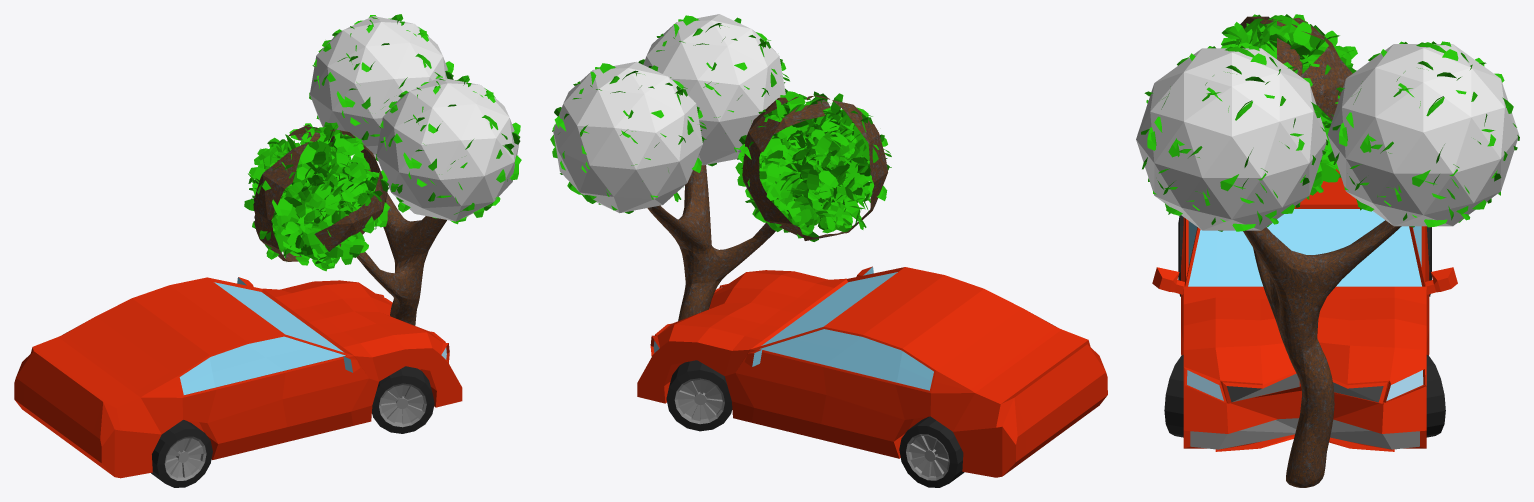
The model's file is nabourane-auto.fbx.
3 views of the same model, side by side, from view 1: azimuth 30°, elevation 25°; view 2: azimuth 150°, elevation 25°; view 3: azimuth 270°, elevation 25° (orthographic). The views are drawn at different scales.
Visible parts, largest first — view 1: AutoBourane, Listy2, Listy1, Listy3, Kmen; view 2: AutoBourane, Listy1, Listy2, Kmen, Listy3; view 3: AutoBourane, Listy1, Listy2, Kmen, Listy3.
Part boxes in pixels (bbox=[...]): AutoBourane: bbox=[14, 277, 462, 487]; Listy2: bbox=[376, 77, 518, 221]; Listy1: bbox=[310, 16, 447, 157]; Listy3: bbox=[253, 124, 387, 261]; Kmen: bbox=[356, 169, 446, 325]; AutoBourane: bbox=[637, 266, 1107, 487]; Listy1: bbox=[553, 61, 702, 213]; Listy2: bbox=[643, 14, 785, 165]; Kmen: bbox=[647, 165, 775, 320]; Listy3: bbox=[742, 95, 887, 240]; AutoBourane: bbox=[1152, 169, 1457, 451]; Listy1: bbox=[1327, 44, 1519, 226]; Listy2: bbox=[1136, 48, 1327, 230]; Kmen: bbox=[1243, 220, 1401, 487]; Listy3: bbox=[1240, 16, 1352, 119].
Size of the model in its own units: 2193 by 1660 by 1282.
